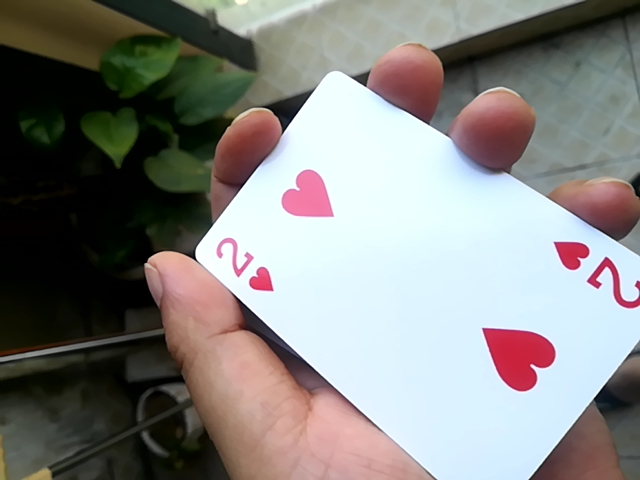hx 2: (168, 60, 640, 476)
